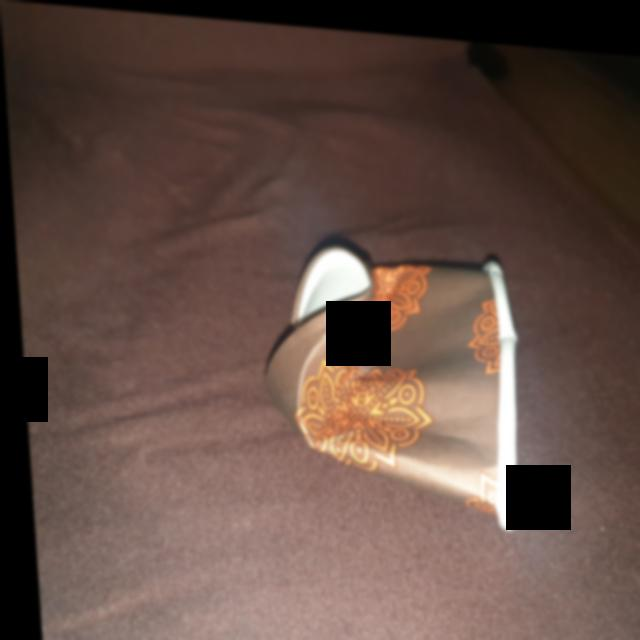cups: (247, 221, 536, 527)
